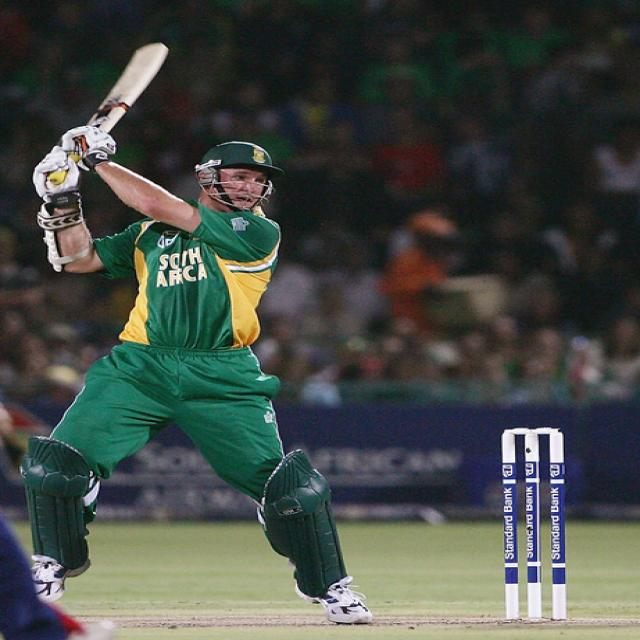stump: (500, 427, 567, 625)
